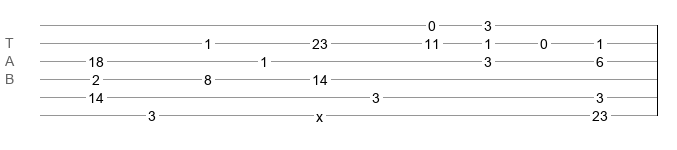0: (428, 18, 436, 28), (540, 36, 548, 46)
1: (204, 36, 212, 46), (260, 54, 268, 64), (484, 36, 492, 46), (596, 36, 604, 46)
11: (424, 36, 440, 46)
14: (88, 90, 104, 100), (312, 72, 328, 82)
18: (88, 54, 104, 64)
2: (92, 72, 100, 82)
23: (312, 36, 328, 46), (592, 108, 608, 118)
3: (148, 108, 156, 118), (372, 90, 380, 100), (484, 54, 492, 64), (484, 18, 492, 28), (596, 90, 604, 100)
6: (596, 54, 604, 64)
8: (204, 72, 212, 82)
x: (316, 109, 323, 117)
